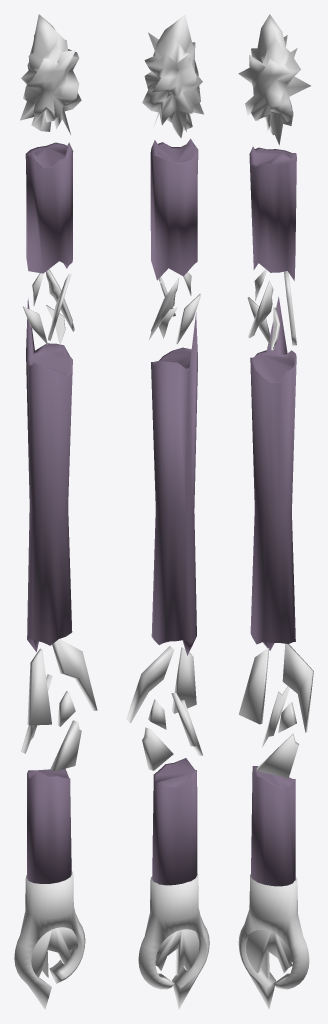
Rendered from ShatteredStaff.fbx.
3 views of the same model, side by side, from view 1: azimuth 30°, elevation 25°; view 2: azimuth 210°, elevation 25°; view 3: azimuth 330°, elevation 25° (orthographic).
Visible parts, largest first — view 1: Cube.005; view 2: Cube.005; view 3: Cube.005.
Part boxes in pixels (x1,y1,x2,y2): Cube.005: (14, 14, 97, 1009); Cube.005: (126, 14, 209, 1009); Cube.005: (238, 14, 313, 1009).
Bounding box in the file's own units: 12.13 × 154 × 8.98.
